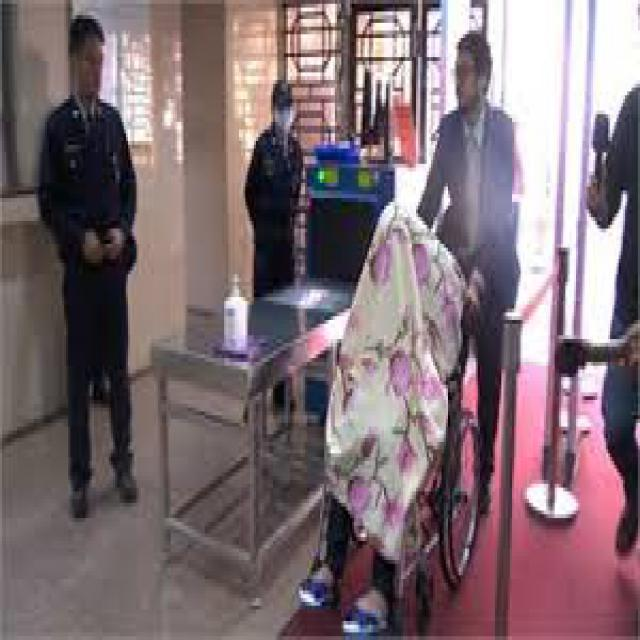wheelchairs: (326, 294, 486, 632)
